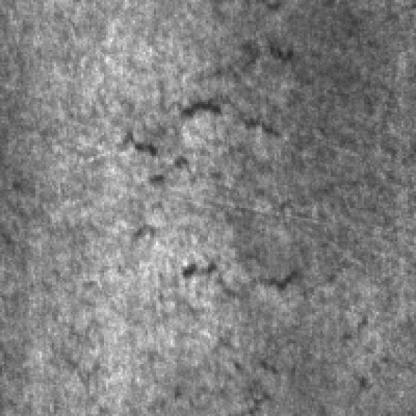crazing: (125, 129, 364, 293), (178, 38, 301, 135)
